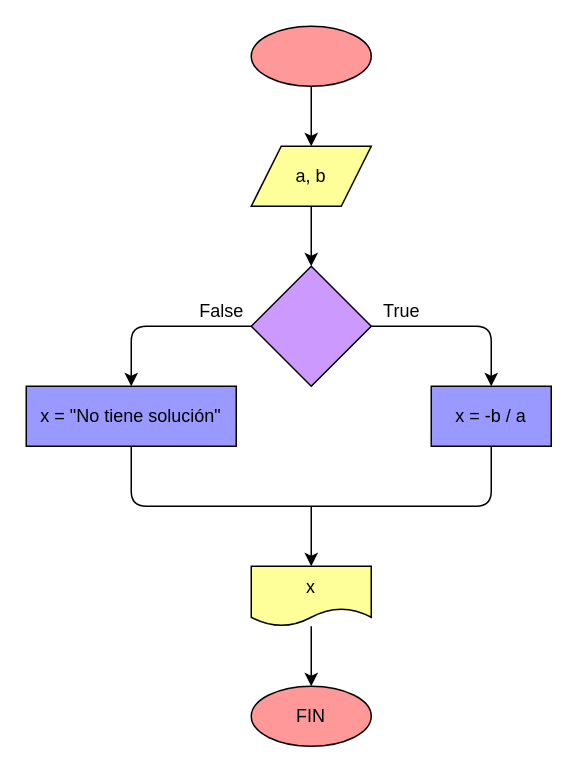
This 578x773 diagram has some shape labels left out. The centre of each missing label's shape, as x and y in pixels:
"a != 0" goes at (310,325).
"INICIO" goes at (310,55).
